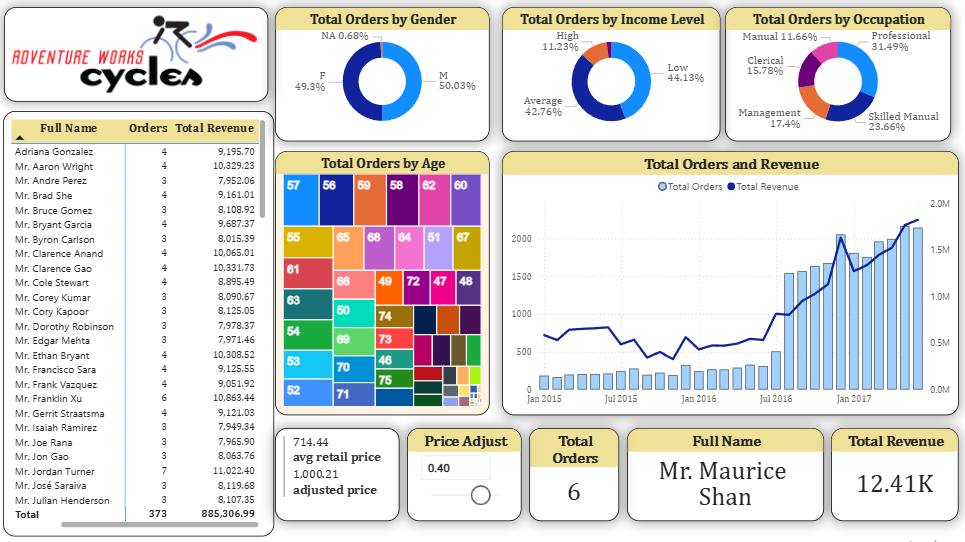

Layout of this report page (visuals, bound fields, positions):
{"tool":"powerbi","page":{"name":"order details","canvas":[1280,720],"ordinal":2},"visuals":[{"type":"image","box":[13,14.4,345.6,123.8],"z":0},{"type":"pivotTable","fields":{"Rows":["AW_customers.Full Name"],"Values":["AW_sales_15-17.total orders","AW_sales_15-17.Total revenue"]},"box":[13,149.8,345.6,557.3],"z":1000},{"type":"donutChart","title":"Total Orders by Gender","fields":{"Y":["AW_sales_15-17.total orders"],"Category":["AW_customers.Gender"]},"box":[367.2,14.4,280.8,175.7],"z":2000},{"type":"donutChart","title":"Total Orders  by Income Level","fields":{"Y":["AW_sales_15-17.total orders"],"Category":["AW_customers.Incom Level"]},"box":[665.3,14.4,285.1,175.7],"z":3000},{"type":"donutChart","title":"Total Orders by Occupation","fields":{"Y":["AW_sales_15-17.total orders"],"Category":["AW_customers.Occupation"]},"box":[966.2,14.4,280.8,175.7],"z":4000},{"type":"treemap","title":"Total Orders by Age","fields":{"Group":["AW_customers.age"],"Values":["AW_sales_15-17.total orders"]},"box":[367.2,203,280.8,345.6],"z":5000},{"type":"lineStackedColumnComboChart","title":"Total Orders and Revenue","fields":{"Y":["AW_sales_15-17.total orders"],"Y2":["AW_sales_15-17.Total revenue"],"Category":["AW_calender.Start of Month"]},"box":[665.3,203,597.6,345.6],"z":6000},{"type":"card","title":"Full Name","fields":{"Values":["AW_customers.Full Name"]},"box":[828,565.9,257.8,122.4],"z":7000},{"type":"card","title":"Total Orders","fields":{"Values":["AW_sales_15-17.total orders"]},"box":[699.8,565.9,118.1,122.4],"z":8000},{"type":"card","title":"Total Revenue","fields":{"Values":["AW_sales_15-17.Total revenue"]},"box":[1095.8,565.9,167,122.4],"z":9000},{"type":"multiRowCard","fields":{"Values":["AW_products.avg retail price","AW_products.adjusted price"]},"box":[367.2,565.9,162.7,122.4],"z":10000},{"type":"slicer","title":"Price Adjust","fields":{"Values":["price adjustment (%).price adjustment (%)"]},"box":[540,565.9,149.8,122.4],"z":11000}]}

Visuals, with their boxes in screenshot pixels (x1, y1, x2, y2), scaled from the page's 1280x720 canvas onto the 965x542 screenshot:
image: {"left": 10, "top": 11, "right": 270, "bottom": 104}
pivotTable - AW_customers.Full Name x AW_sales_15-17.total orders: {"left": 10, "top": 113, "right": 270, "bottom": 532}
"Total Orders by Gender" donutChart: {"left": 277, "top": 11, "right": 489, "bottom": 143}
"Total Orders  by Income Level" donutChart: {"left": 502, "top": 11, "right": 717, "bottom": 143}
"Total Orders by Occupation" donutChart: {"left": 728, "top": 11, "right": 940, "bottom": 143}
"Total Orders by Age" treemap: {"left": 277, "top": 153, "right": 489, "bottom": 413}
"Total Orders and Revenue" lineStackedColumnComboChart: {"left": 502, "top": 153, "right": 952, "bottom": 413}
"Full Name" card: {"left": 624, "top": 426, "right": 819, "bottom": 518}
"Total Orders" card: {"left": 528, "top": 426, "right": 617, "bottom": 518}
"Total Revenue" card: {"left": 826, "top": 426, "right": 952, "bottom": 518}
multiRowCard - AW_products.avg retail price x AW_products.adjusted price: {"left": 277, "top": 426, "right": 399, "bottom": 518}
"Price Adjust" slicer: {"left": 407, "top": 426, "right": 520, "bottom": 518}
